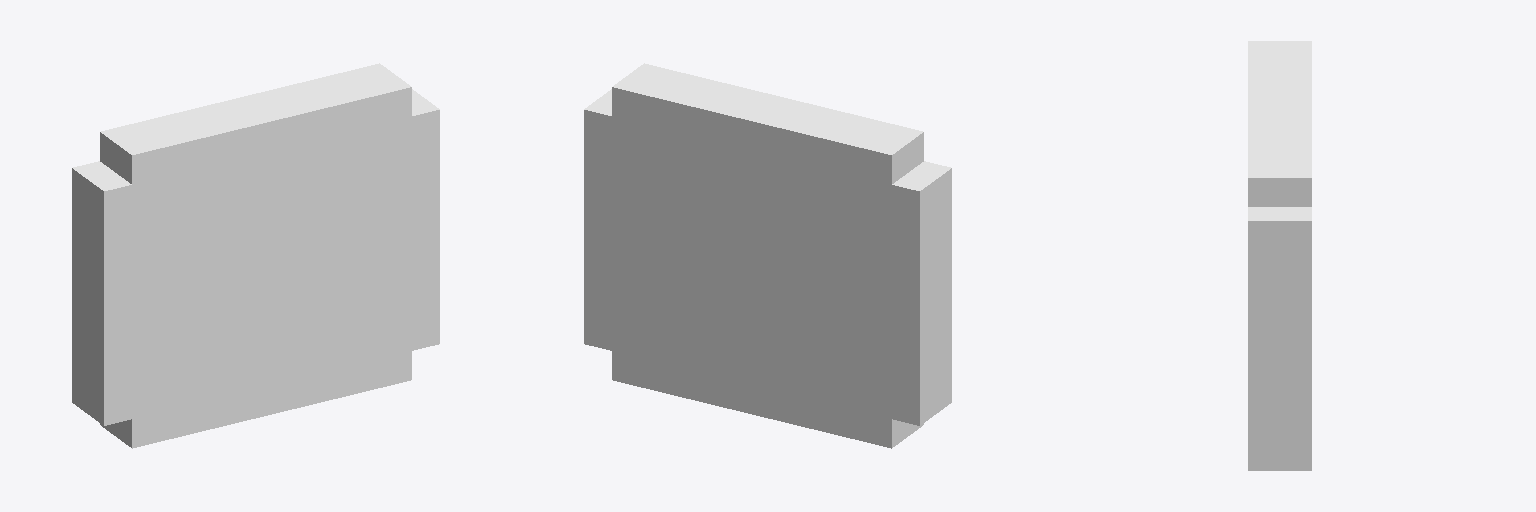
File: warning2.obj
3 renders of one model, left to right at view 1: azimuth 30°, elevation 25°; view 2: azimuth 150°, elevation 25°; view 3: azimuth 270°, elevation 25°, orthographic.
Bounding box in the file's own units: 12 × 10 × 2.